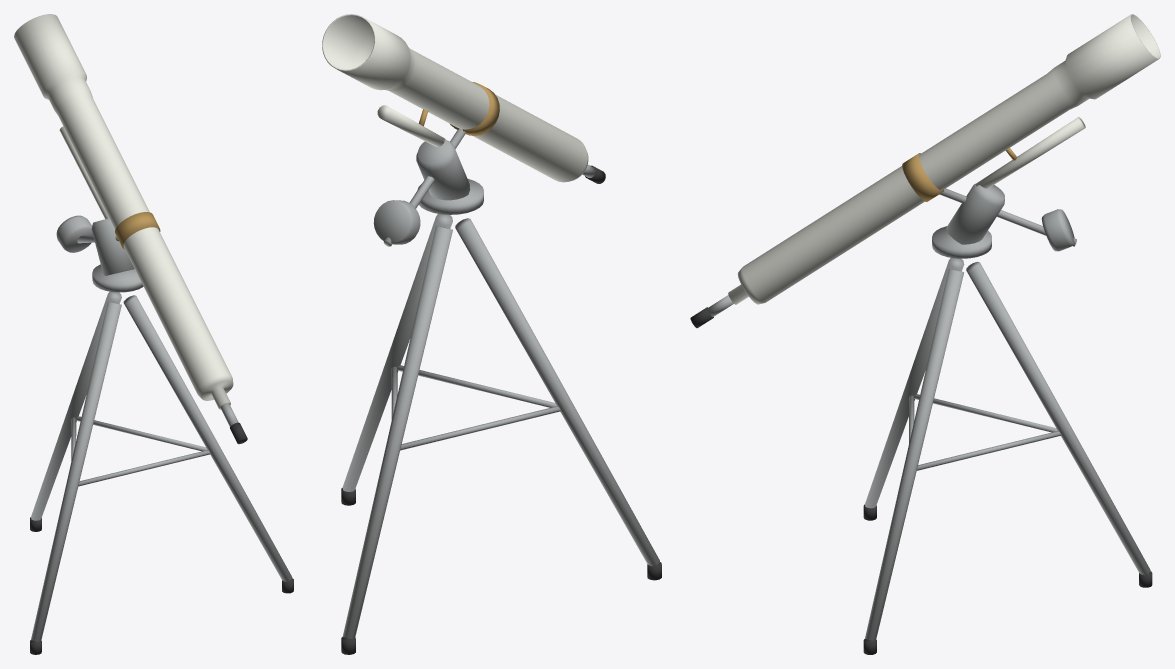
File: telescope_refractor.glb
3 views of the same model, side by side, from view 1: azimuth 30°, elevation 25°; view 2: azimuth 150°, elevation 25°; view 3: azimuth 270°, elevation 25° (orthographic). The views are drawn at different scales.
Visible parts, largest first — view 1: telescope_refractor; view 2: telescope_refractor; view 3: telescope_refractor.
Part boxes in pixels (left/top/right/bottom): telescope_refractor: left=14, top=14, right=293, bottom=654; telescope_refractor: left=322, top=14, right=661, bottom=654; telescope_refractor: left=690, top=14, right=1160, bottom=654.
Size of the model in its own units: 0.9908 by 1.88 by 1.41.
